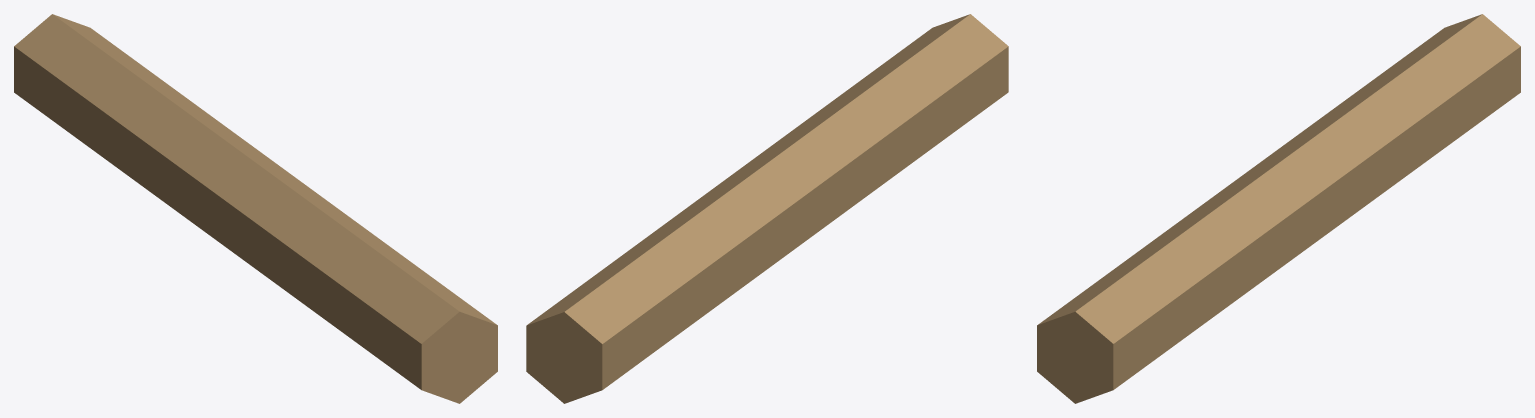
The model's file is instrument.glb.
3 renders of one model, left to right at view 1: azimuth 30°, elevation 25°; view 2: azimuth 150°, elevation 25°; view 3: azimuth 330°, elevation 25°, orthographic.
Parts seen in each view (by area): view 1: cyl; view 2: cyl; view 3: cyl.
Part boxes in pixels (bbox=[...]): cyl: bbox=[14, 14, 497, 403]; cyl: bbox=[526, 14, 1008, 403]; cyl: bbox=[1037, 14, 1520, 403].
Bounding box in the file's own units: 0.026 × 0.0302 × 0.24.
